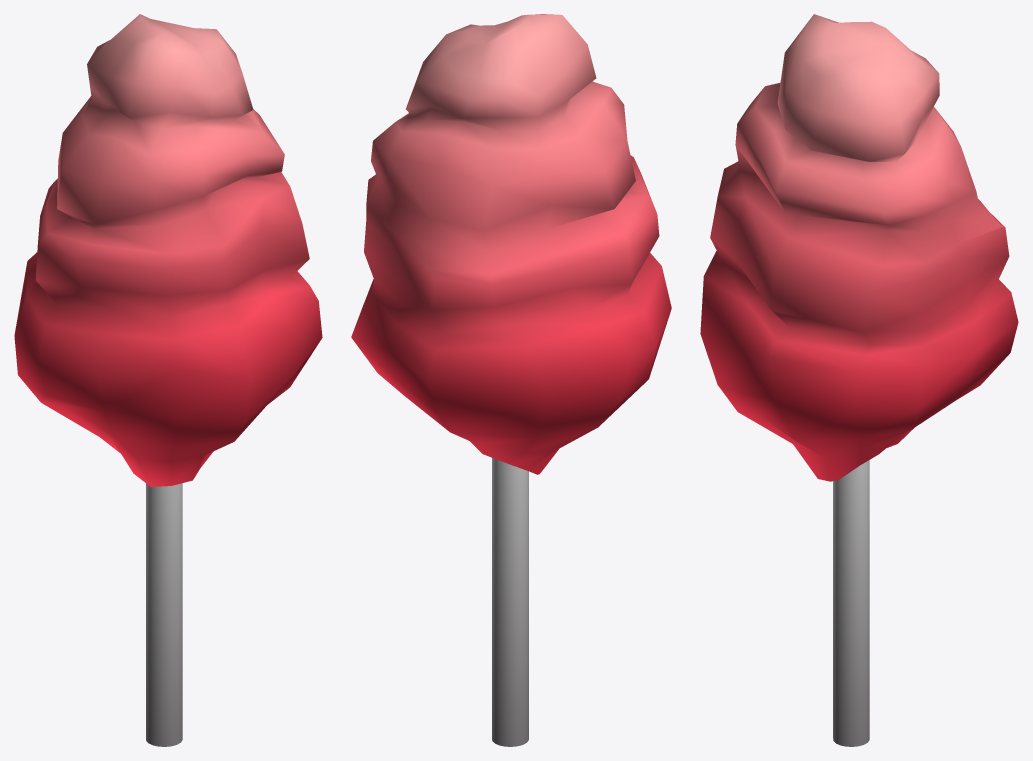
Rendered from Cotton_Candy_Tree_03.fbx.
The picture shows the model from 3 angles, left to right: view 1: azimuth 30°, elevation 25°; view 2: azimuth 150°, elevation 25°; view 3: azimuth 270°, elevation 25°; orthographic projection.
Visible parts, largest first — view 1: Cotton_Candy_Tree_03; view 2: Cotton_Candy_Tree_03; view 3: Cotton_Candy_Tree_03.
Part boxes in pixels (left/top/right/bottom): Cotton_Candy_Tree_03: left=14, top=14, right=322, bottom=746; Cotton_Candy_Tree_03: left=351, top=14, right=671, bottom=746; Cotton_Candy_Tree_03: left=700, top=14, right=1018, bottom=746.
Bounding box in the file's own units: 194 × 495 × 201.
